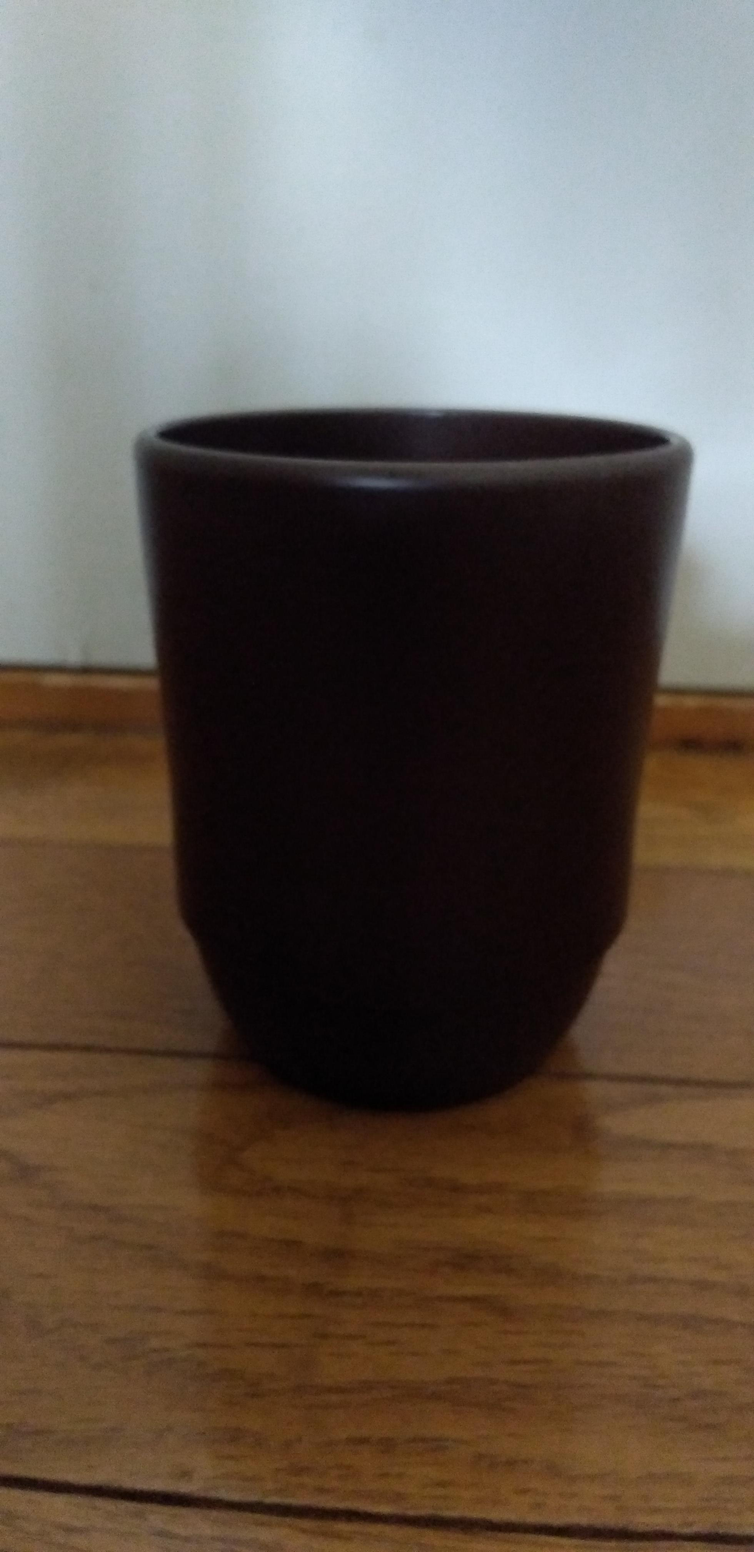mug-real100-3d100: (135, 409, 692, 1110)
